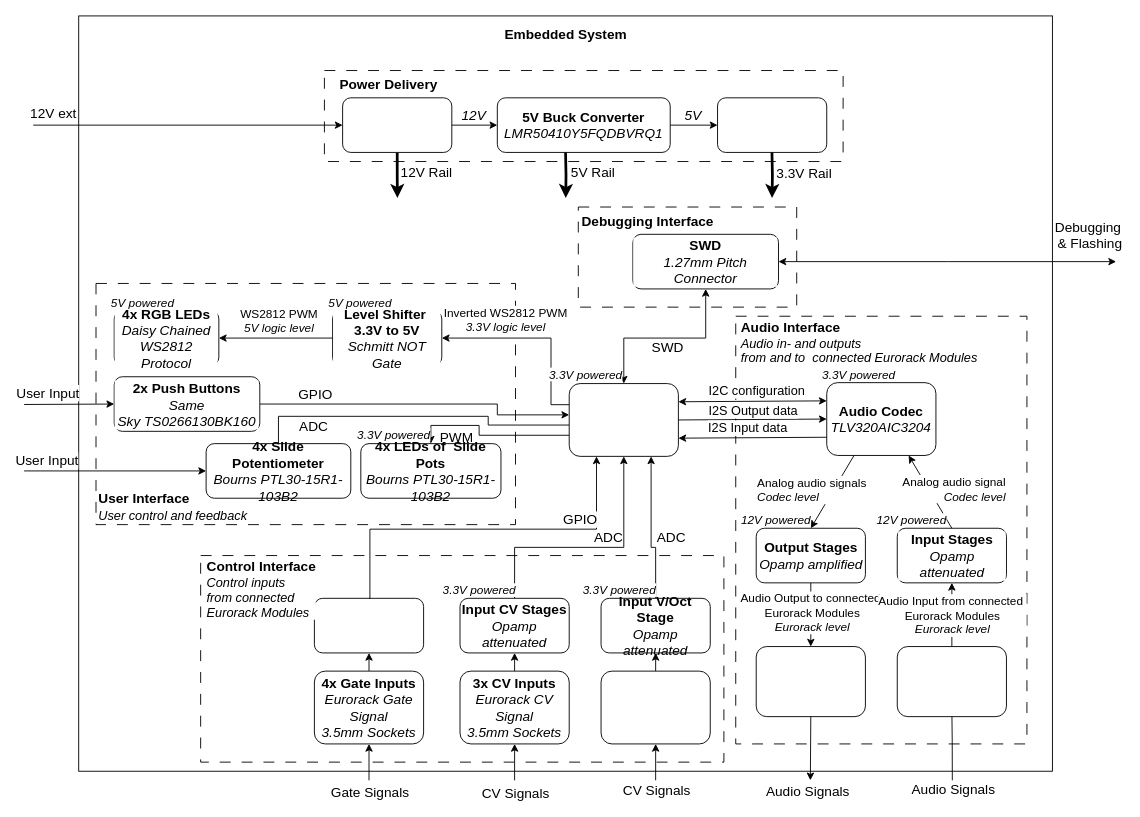
This 1140x817 diagram has some shape labels left out. The shapes that lost their labels are listed below. From the top down, each one's centre as x and y in pixels, then its label:
the point at 397,124: 12V ext. Supply
the point at 772,124: 3.3V LDO LM1117MP-3.3
the point at 623,419: MCU STM32H7A3RITx
the point at 368,625: Transistor Stage
the point at 810,681: Stereo Audio Output 2x Mono Socket 3.5mm Sockets
the point at 951,681: Stereo Audio Input 2x Mono Socket 3.5mm Sockets
the point at 655,707: 1x V/Oct Inputs Eurorack CV Signal 3.5mm Sockets
